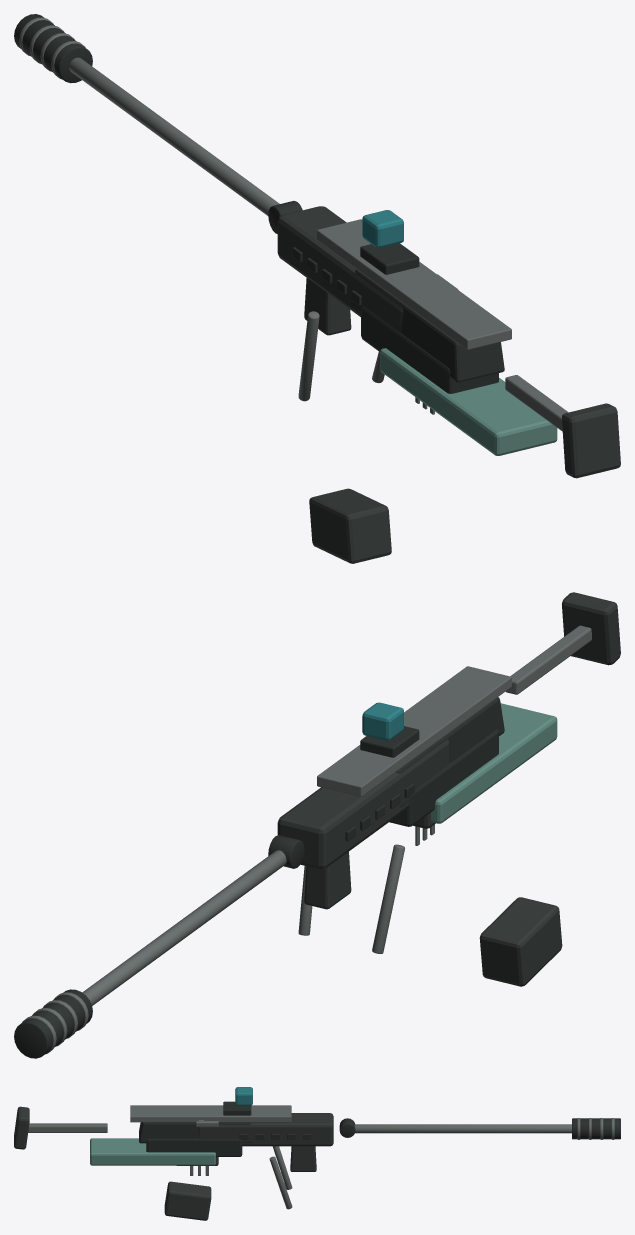
Rendered from axmc.glb.
3 renders of one model, top to bottom at view 1: azimuth 30°, elevation 25°; view 2: azimuth 150°, elevation 25°; view 3: azimuth 270°, elevation 25°, orthographic. The views are drawn at different scales.
Parts seen in each view (by area): view 1: ChassisSpine, TopRail, Handguard, SpareMagazineBody, Barrel, StockButt, UpperReceiver, LowerReceiver, SuppressorBody, ForegripBody, StockTube, OpticGlass (+2 smaller); view 2: Handguard, TopRail, SpareMagazineBody, ChassisSpine, Barrel, StockButt, LowerReceiver, SuppressorBody, UpperReceiver, StockTube, ForegripBody, BipodLeg (+3 smaller); view 3: Handguard, TopRail, ChassisSpine, Barrel, SpareMagazineBody, LowerReceiver, UpperReceiver, SuppressorBody, StockTube, ForegripBody, StockButt, BipodLeg.001 (+4 smaller).
Part boxes in pixels (left/top/right/bottom): ChassisSpine: left=380, top=348, right=557, bottom=455; TopRail: left=317, top=219, right=511, bottom=349; Handguard: left=277, top=206, right=403, bottom=332; SpareMagazineBody: left=309, top=488, right=391, bottom=563; Barrel: left=69, top=57, right=279, bottom=215; StockButt: left=562, top=403, right=620, bottom=478; UpperReceiver: left=350, top=269, right=504, bottom=382; LowerReceiver: left=361, top=305, right=498, bottom=393; SuppressorBody: left=14, top=14, right=92, bottom=83; ForegripBody: left=304, top=278, right=351, bottom=335; StockTube: left=505, top=375, right=568, bottom=431; OpticGlass: left=362, top=210, right=403, bottom=247; Handguard: left=277, top=739, right=449, bottom=869; TopRail: left=317, top=666, right=511, bottom=796; SpareMagazineBody: left=479, top=897, right=562, bottom=986; ChassisSpine: left=431, top=703, right=557, bottom=823; Barrel: left=82, top=850, right=286, bottom=1005; StockButt: left=562, top=592, right=620, bottom=665; LowerReceiver: left=389, top=729, right=498, bottom=826; SuppressorBody: left=14, top=989, right=92, bottom=1058; UpperReceiver: left=396, top=697, right=504, bottom=807; StockTube: left=505, top=625, right=591, bottom=694; ForegripBody: left=304, top=851, right=351, bottom=909; BipodLeg: left=372, top=844, right=404, bottom=953; Handguard: left=198, top=1113, right=333, bottom=1146; TopRail: left=130, top=1105, right=291, bottom=1122; ChassisSpine: left=90, top=1138, right=215, bottom=1165; Barrel: left=354, top=1124, right=571, bottom=1133; SpareMagazineBody: left=164, top=1181, right=211, bottom=1220; LowerReceiver: left=146, top=1138, right=242, bottom=1156; UpperReceiver: left=139, top=1122, right=252, bottom=1143; SuppressorBody: left=572, top=1118, right=620, bottom=1139; StockTube: left=28, top=1123, right=107, bottom=1132; ForegripBody: left=290, top=1146, right=316, bottom=1171; StockButt: left=14, top=1106, right=29, bottom=1149; BipodLeg.001: left=269, top=1156, right=292, bottom=1209.
Size of the model in its own units: 0.5433 by 0.9347 by 3.46.
